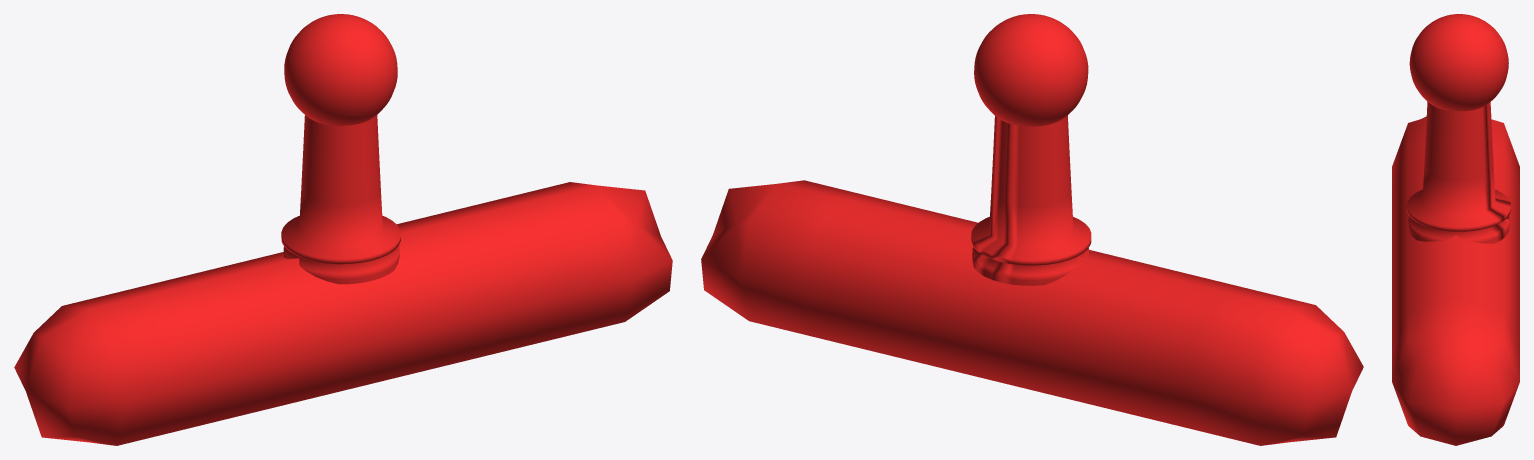
The model's file is redBrush.dae.
3 renders of one model, left to right at view 1: azimuth 30°, elevation 25°; view 2: azimuth 150°, elevation 25°; view 3: azimuth 270°, elevation 25°, orthographic. The views are drawn at different scales.
Visible parts, largest first — view 1: Cube, Circle_001; view 2: Cube, Circle_001; view 3: Cube, Circle_001.
Part boxes in pixels (x1,y1,x2,y2): Cube: (14, 182, 672, 445); Circle_001: (281, 14, 400, 284); Cube: (701, 180, 1363, 445); Circle_001: (971, 14, 1091, 285); Cube: (1392, 116, 1519, 445); Circle_001: (1407, 14, 1510, 243).
Size of the model in its own units: 12.61 by 2.52 by 6.83.
